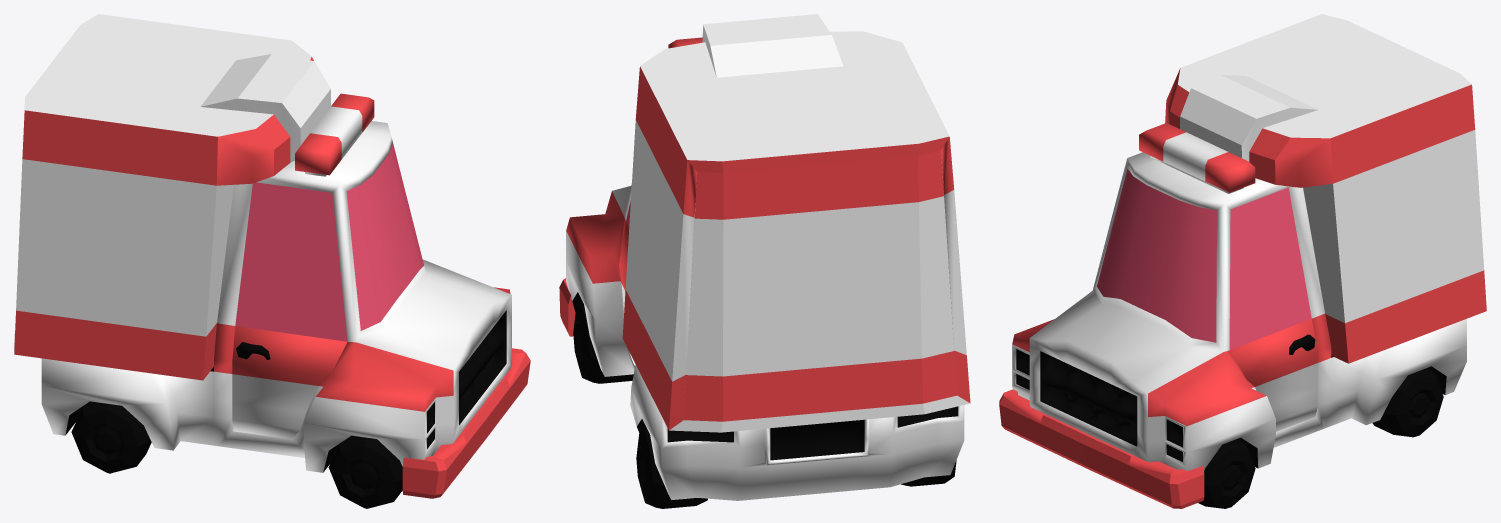
The model's file is ToyObject_152.fbx.
The picture shows the model from 3 angles, left to right: view 1: azimuth 30°, elevation 25°; view 2: azimuth 150°, elevation 25°; view 3: azimuth 270°, elevation 25°; orthographic projection. The views are drawn at different scales.
Visible parts, largest first — view 1: object-1.059; view 2: object-1.059; view 3: object-1.059.
Part boxes in pixels (<box>): object-1.059: <box>14,14,530,508</box>; object-1.059: <box>559,14,970,508</box>; object-1.059: <box>999,14,1486,508</box>.
Size of the model in its own units: 0.1199 by 0.0939 by 0.1229.
